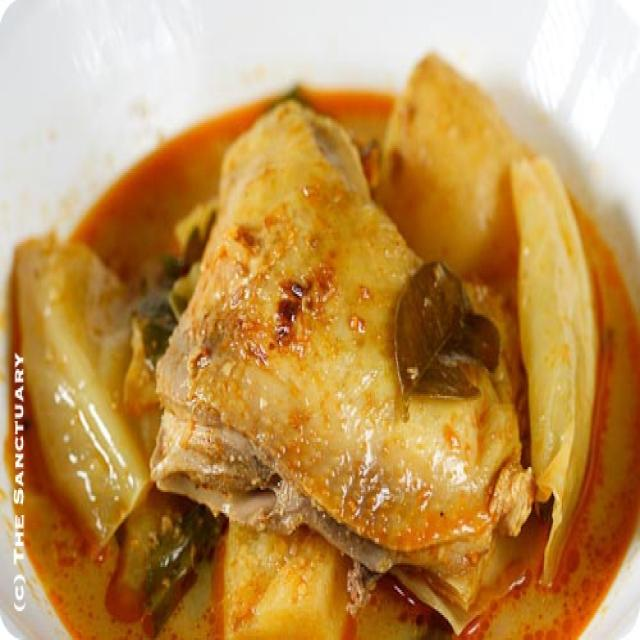熟制海鲜: (26, 35, 613, 634)
